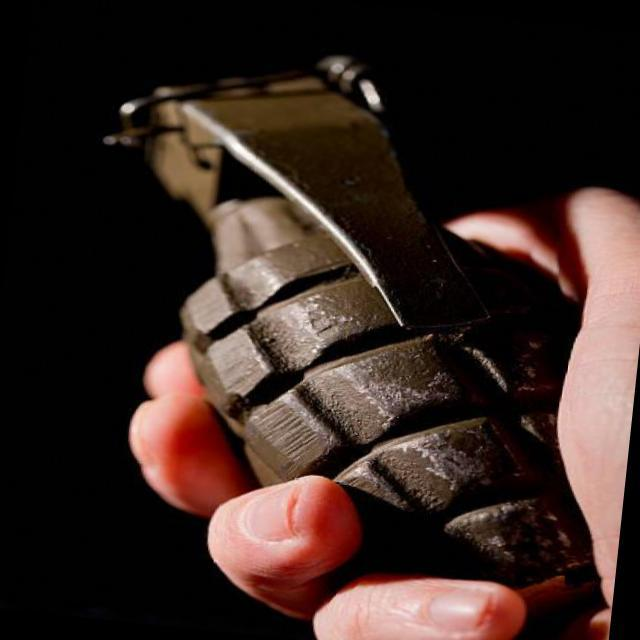grenade: (65, 41, 640, 592)
